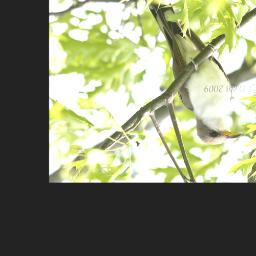Cuckoo: (149, 0, 242, 147)
